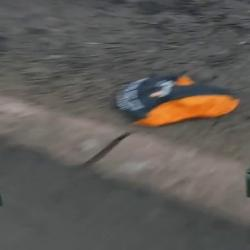Plastic: (113, 72, 240, 127)
